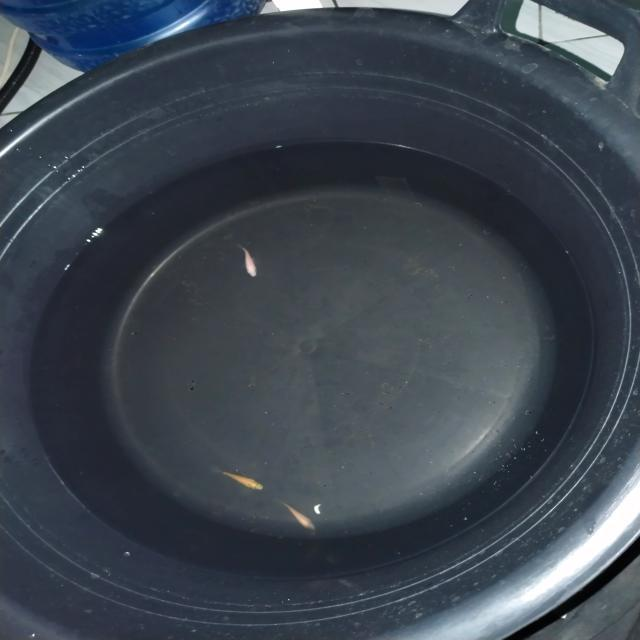nila: (279, 499, 318, 536), (220, 466, 264, 492), (236, 245, 262, 280)
